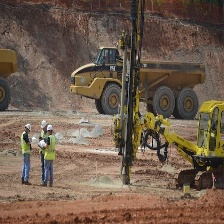helmet: (23, 122, 32, 134), (41, 119, 47, 132), (47, 124, 53, 135)
person: (20, 121, 35, 188), (44, 124, 57, 190)
vest: (21, 131, 34, 158), (45, 134, 56, 163)
